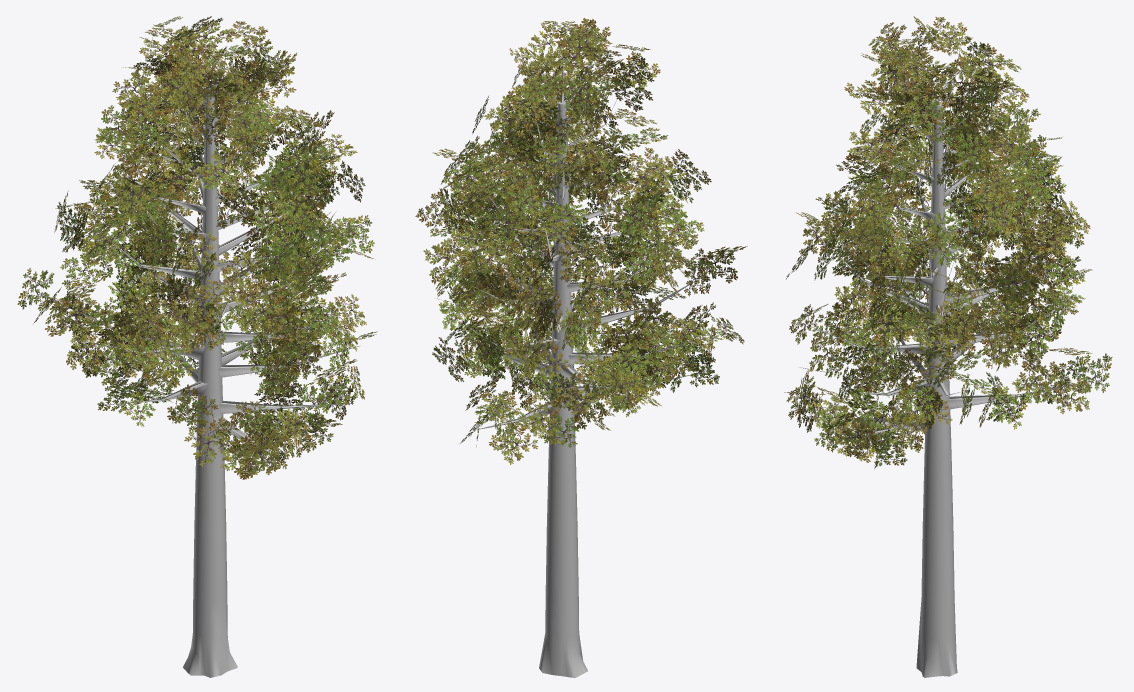
Rendered from American_Chestnut_Model_0.obj.
The picture shows the model from 3 angles, left to right: view 1: azimuth 30°, elevation 25°; view 2: azimuth 150°, elevation 25°; view 3: azimuth 270°, elevation 25°; orthographic projection. The views are drawn at different scales.
Visible parts, largest first — view 1: Foliage__leafcard, Bark; view 2: Foliage__leafcard, Bark; view 3: Foliage__leafcard, Bark.
Boxes of the visible parts, x1,y1,x2,y2 form: Foliage__leafcard: (17, 16, 377, 479); Bark: (38, 47, 360, 677); Foliage__leafcard: (415, 18, 747, 464); Bark: (440, 39, 710, 677); Foliage__leafcard: (784, 16, 1112, 469); Bark: (805, 45, 1094, 677).
Size of the model in its own units: 12.25 by 25 by 11.93.
